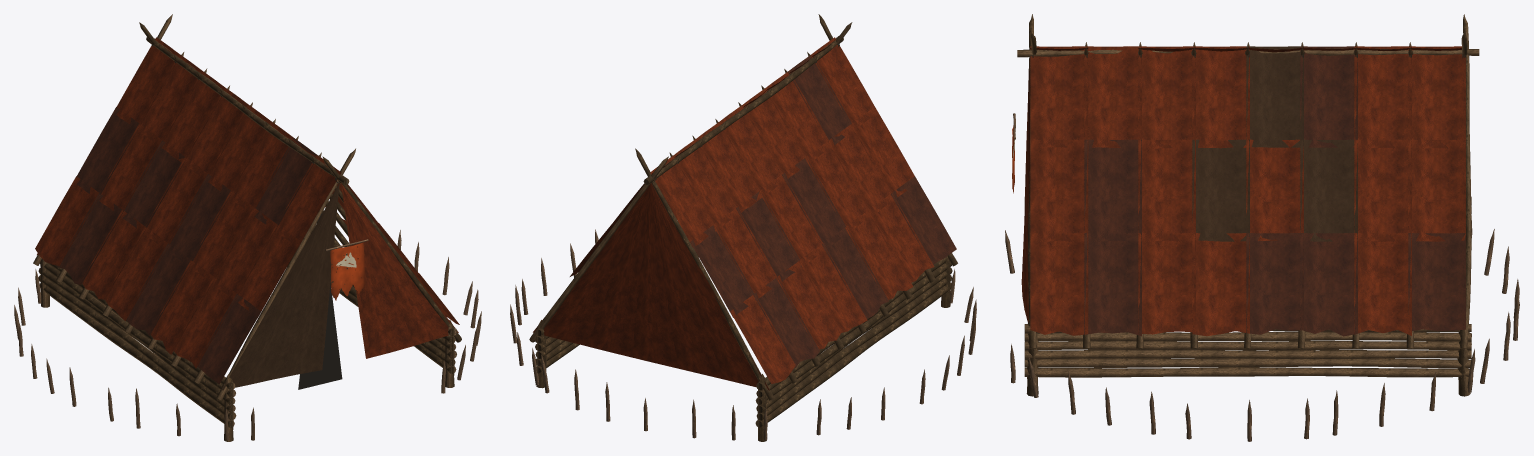
Rendered from SM_Bld_Red_Hall.gltf.
3 renders of one model, left to right at view 1: azimuth 30°, elevation 25°; view 2: azimuth 150°, elevation 25°; view 3: azimuth 270°, elevation 25°, orthographic. The views are drawn at different scales.
Visible parts, largest first — view 1: SM_Bld_Red_Hall; view 2: SM_Bld_Red_Hall; view 3: SM_Bld_Red_Hall.
Boxes of the visible parts, <box> form: SM_Bld_Red_Hall: <box>14,14,481,441</box>; SM_Bld_Red_Hall: <box>510,14,976,441</box>; SM_Bld_Red_Hall: <box>1005,14,1519,441</box>.
Size of the model in its own units: 14.69 by 9.03 by 13.71.
8 materials, 7 textured.
